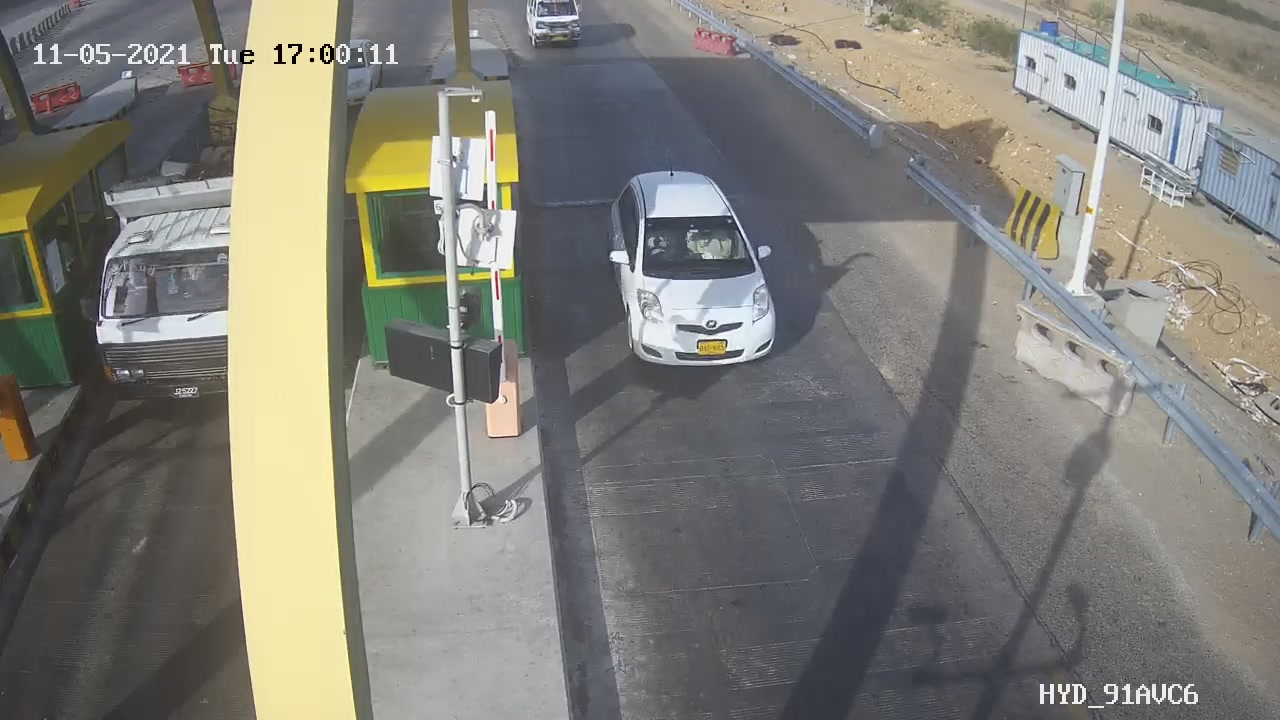F1: (589, 148, 799, 392)
